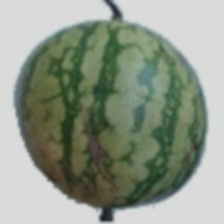watermelon: (14, 19, 205, 209)
